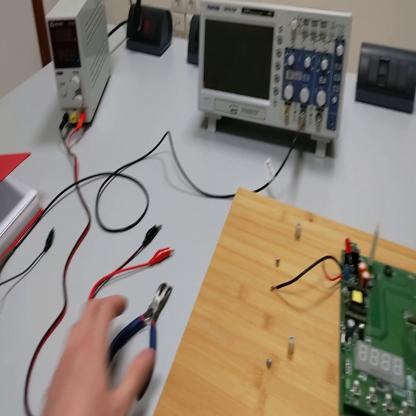hand: (40, 291, 156, 415)
low voltage board: (268, 222, 415, 414)
oscilloscope: (201, 2, 353, 163)
pliers: (118, 280, 175, 353)
power supply: (45, 5, 113, 126)
register: (2, 156, 46, 278)
socket: (127, 2, 173, 61), (185, 13, 198, 66)
working area: (155, 188, 416, 415)
